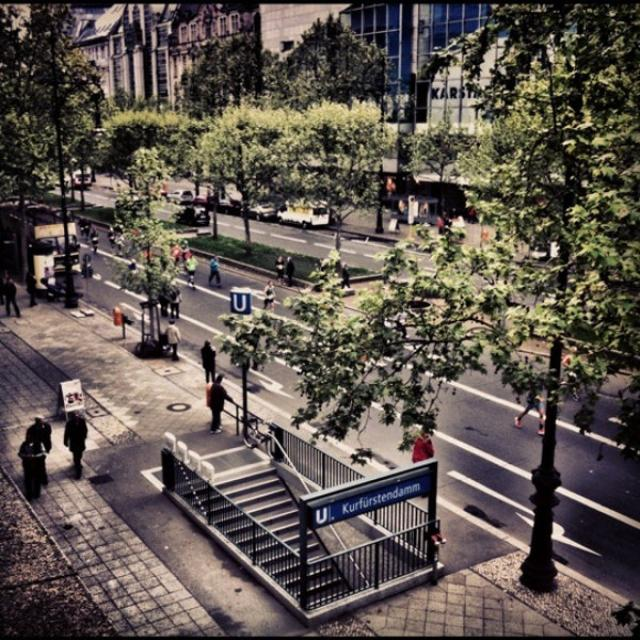body: (512, 371, 550, 436), (22, 414, 54, 487), (17, 428, 45, 503), (60, 408, 90, 477), (409, 426, 435, 501), (206, 374, 236, 436), (559, 345, 581, 402), (161, 316, 182, 362), (468, 198, 499, 228), (1, 275, 21, 319), (200, 338, 218, 385), (44, 261, 66, 298), (23, 268, 40, 307), (154, 279, 170, 319), (416, 197, 431, 239), (166, 283, 182, 320), (207, 254, 224, 288), (262, 278, 278, 310), (184, 254, 198, 290), (383, 176, 397, 208), (274, 253, 287, 286), (449, 214, 466, 239), (178, 238, 191, 269), (88, 226, 100, 256), (394, 198, 406, 228), (440, 212, 452, 242), (168, 240, 180, 268), (113, 232, 126, 257), (285, 255, 295, 287), (340, 264, 352, 290), (107, 226, 117, 250), (435, 214, 445, 235), (77, 215, 85, 237), (83, 220, 91, 240)
